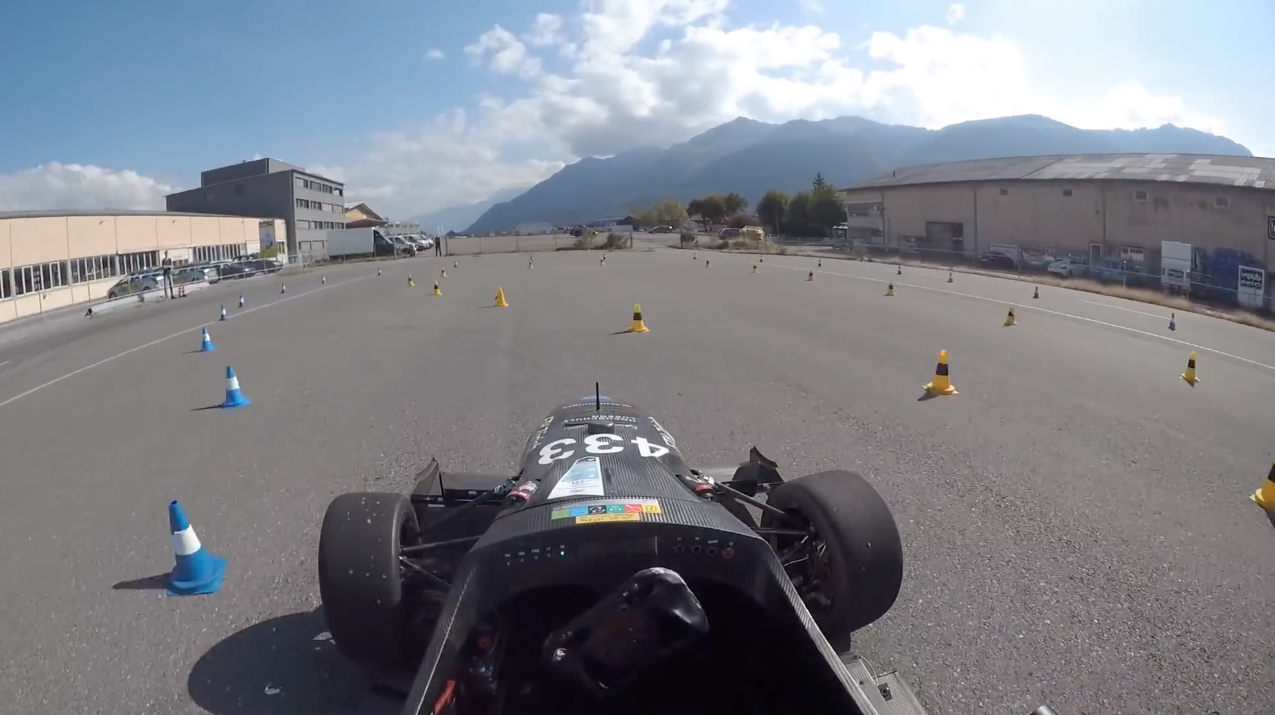lcone: (154, 498, 233, 599), (216, 360, 253, 412), (196, 323, 219, 355)
rcone: (922, 345, 965, 400), (623, 296, 657, 338), (1173, 348, 1203, 389), (490, 284, 512, 313)
